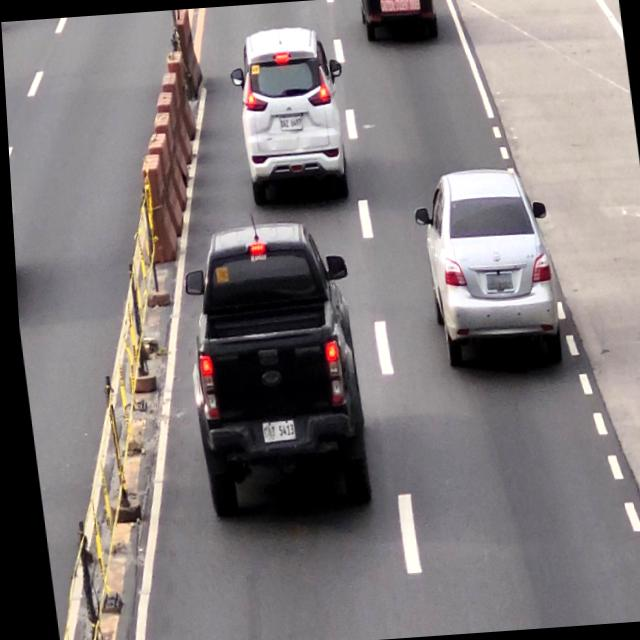Car: (169, 223, 364, 512), (418, 168, 559, 376), (229, 25, 346, 202)
License-Plate: (254, 417, 291, 445), (481, 270, 511, 292), (275, 113, 300, 130)
